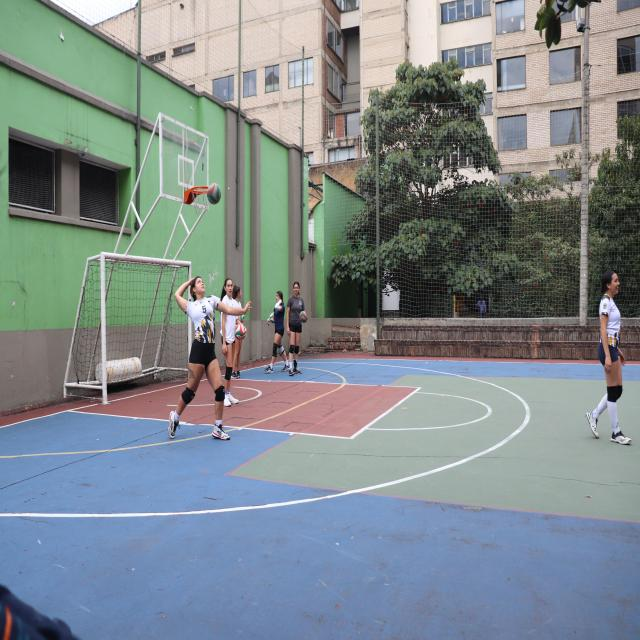volleyball: (207, 182, 222, 205), (236, 324, 246, 340), (269, 312, 275, 324), (300, 312, 307, 322), (238, 315, 245, 322)
